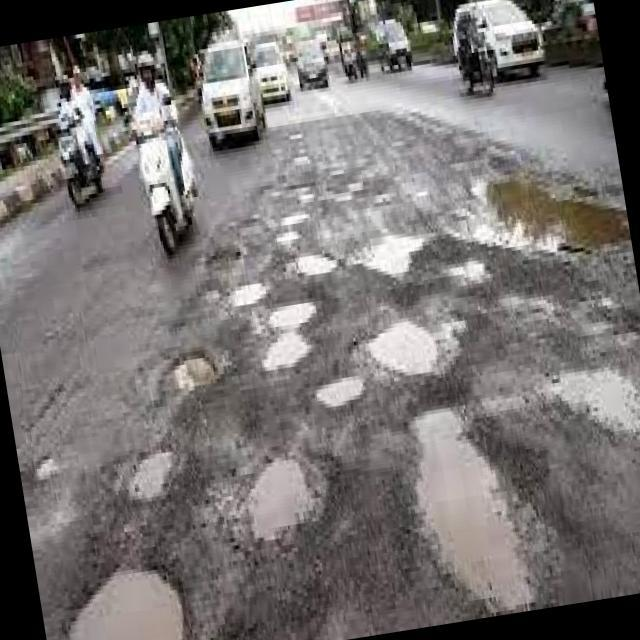Burst: (412, 408, 532, 616), (74, 569, 182, 640), (252, 460, 308, 535), (366, 321, 438, 376), (161, 349, 223, 412), (134, 451, 172, 500)
